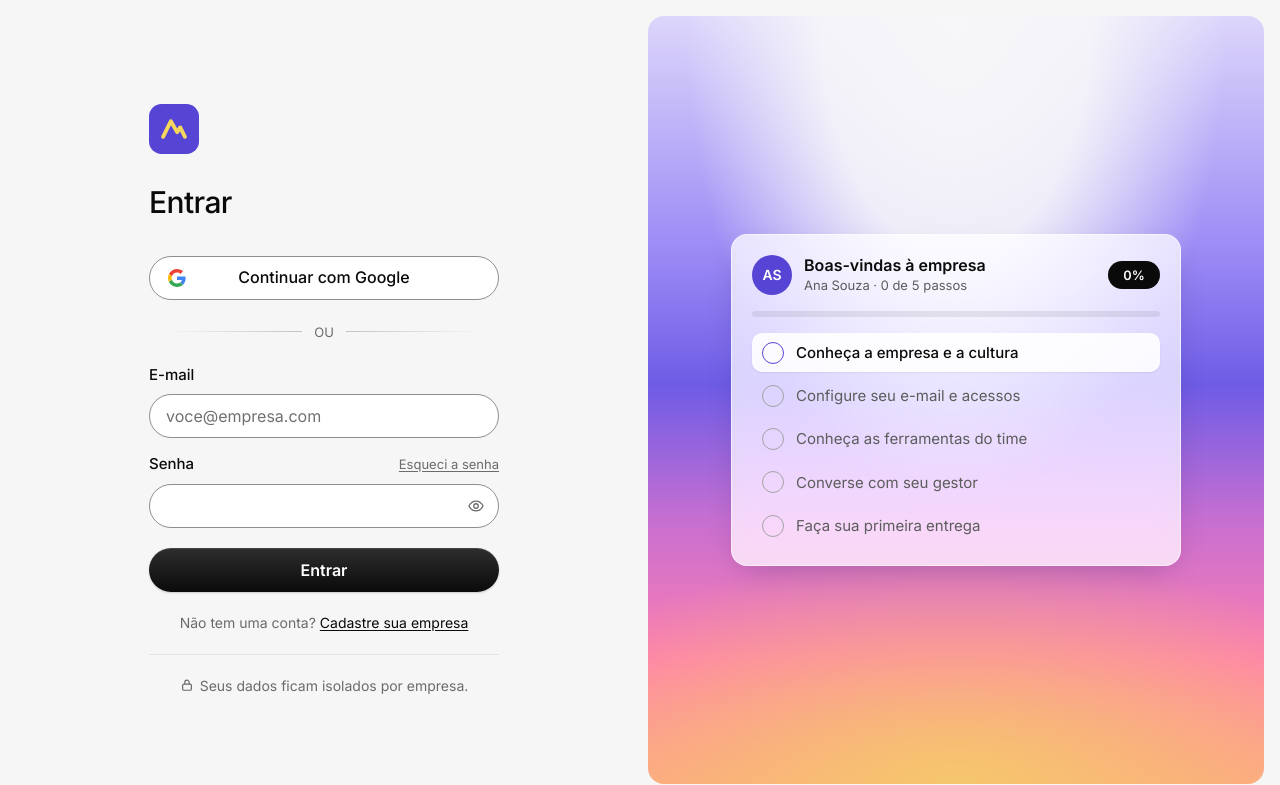
it: autenticação › volta para a landing pelo logo da tela de login
Click the link named "OnboardHub, voltar ao início": click(174, 129) [149,104,199,154]
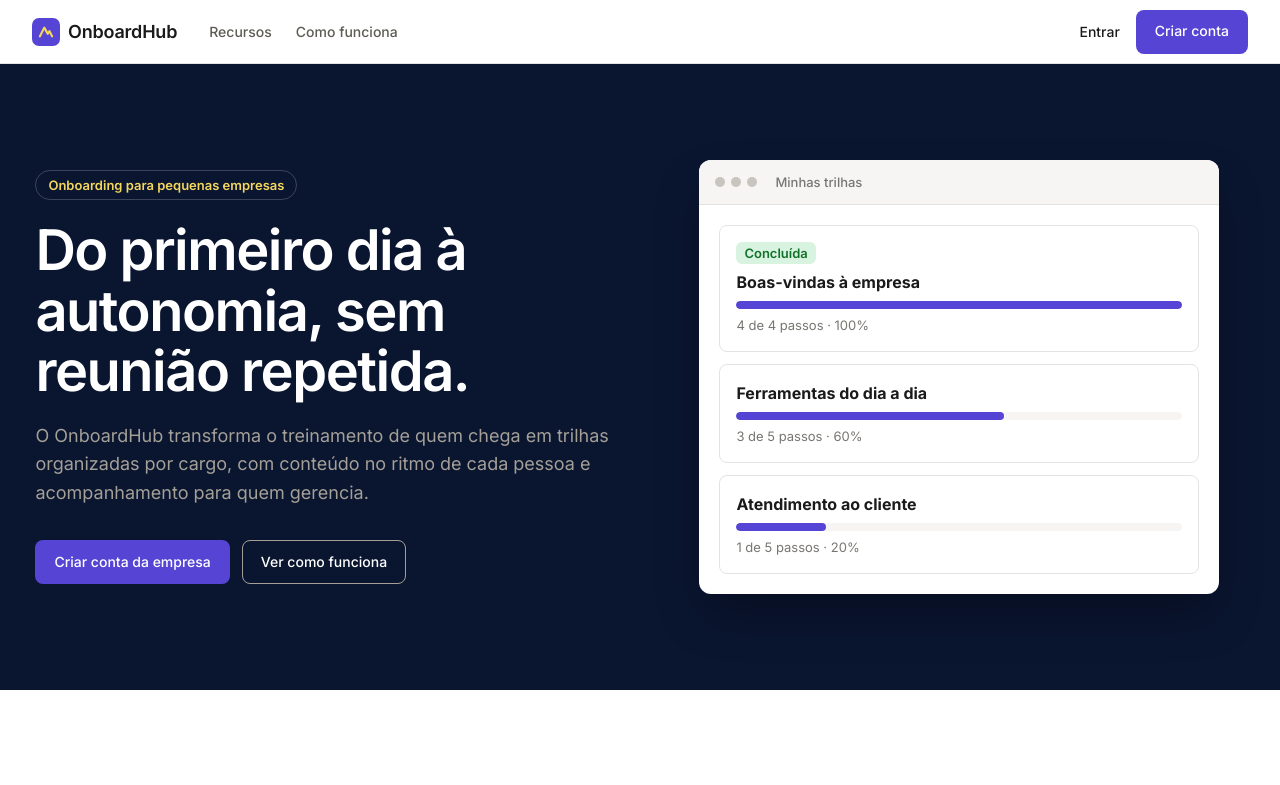
Expected: the heading "Do primeiro dia à autonomia, sem reunião repetida." is shown, [35,216,469,405]
